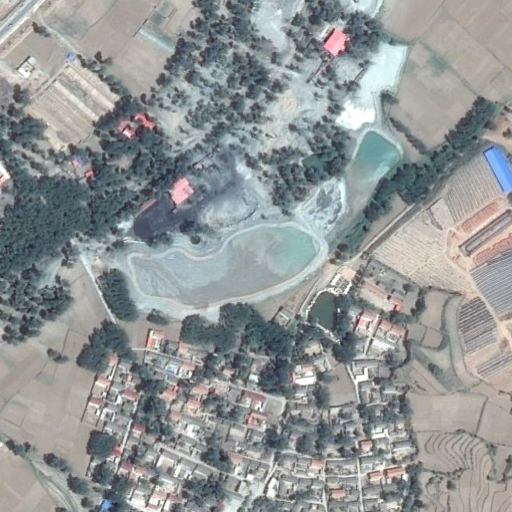tp: (299, 41, 412, 242), (119, 222, 328, 313)
